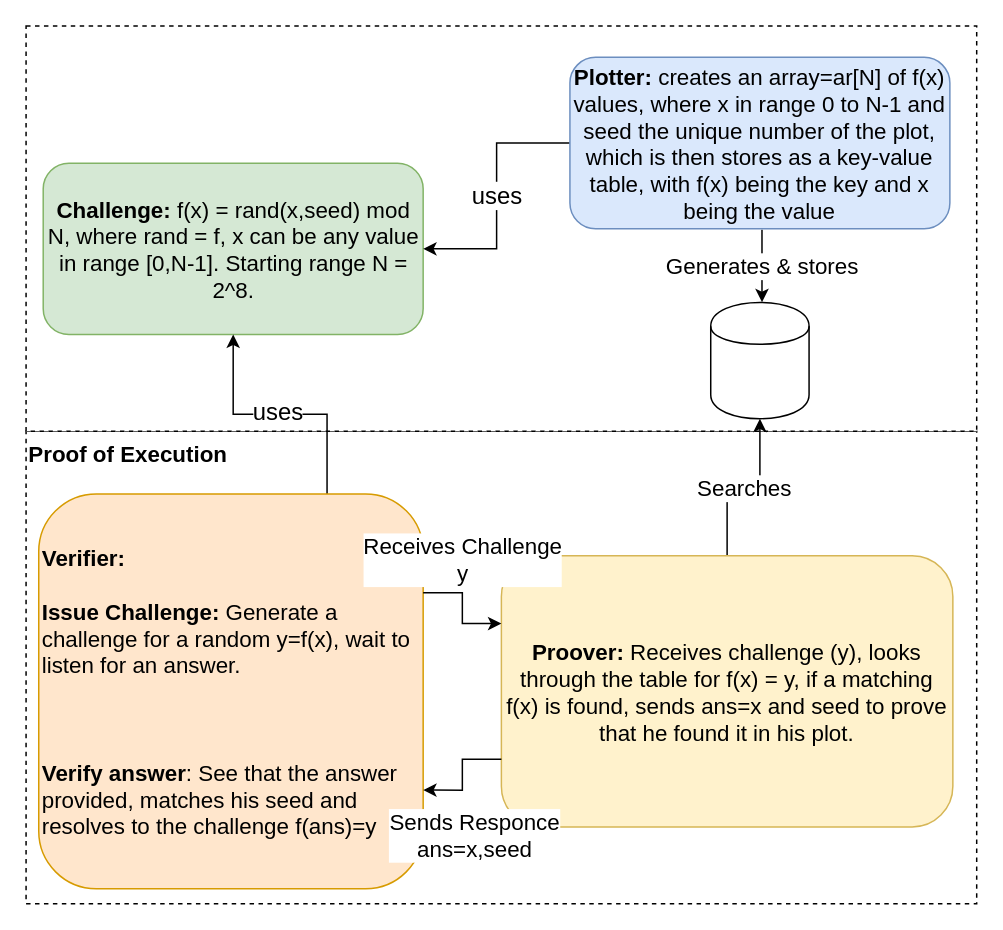
Image size: 1003x930. Some labels were removed from this diagram. The box of each missing label's shape, as (x1, y1, x2, y2) in pixels:
Array of f(x) : x: (709, 301, 809, 419)
Initialization: (25, 25, 977, 431)
